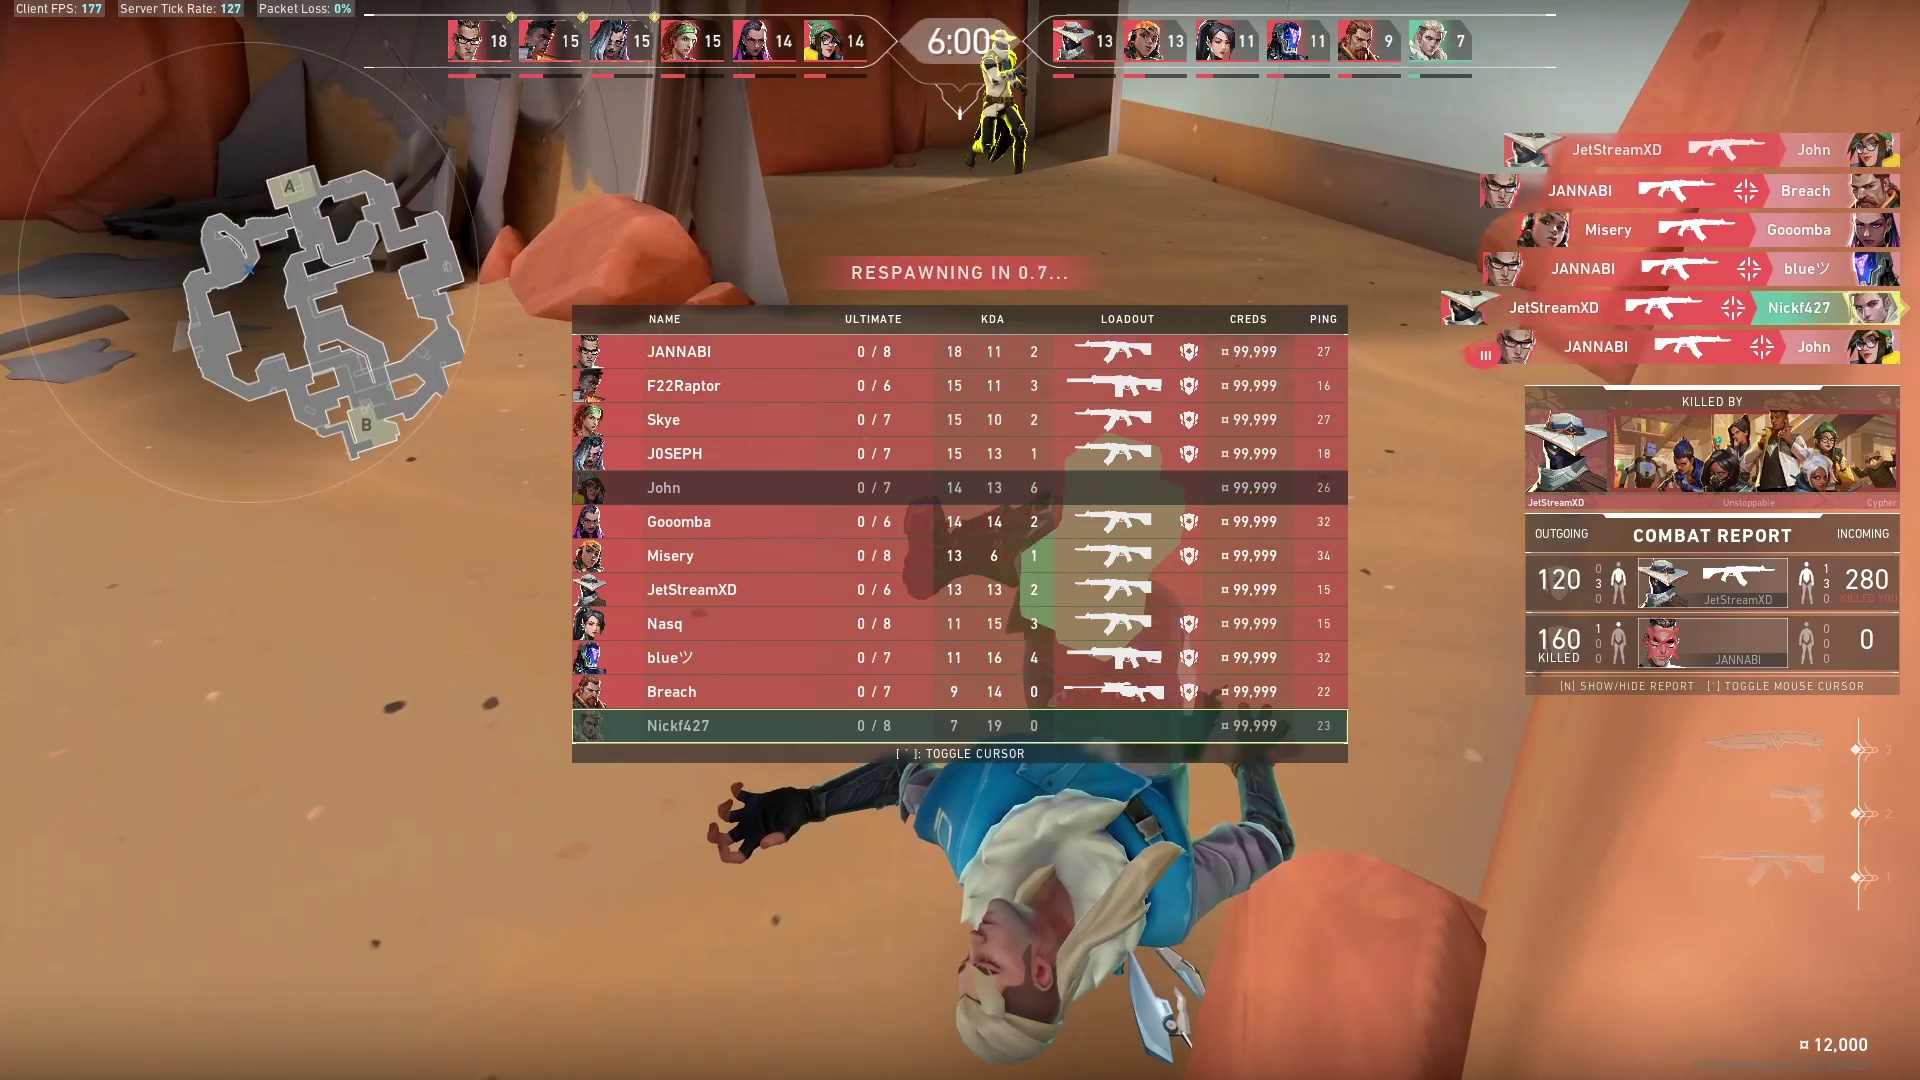enemy_body: (973, 49, 1033, 179)
enemy_head: (985, 26, 1017, 51)
